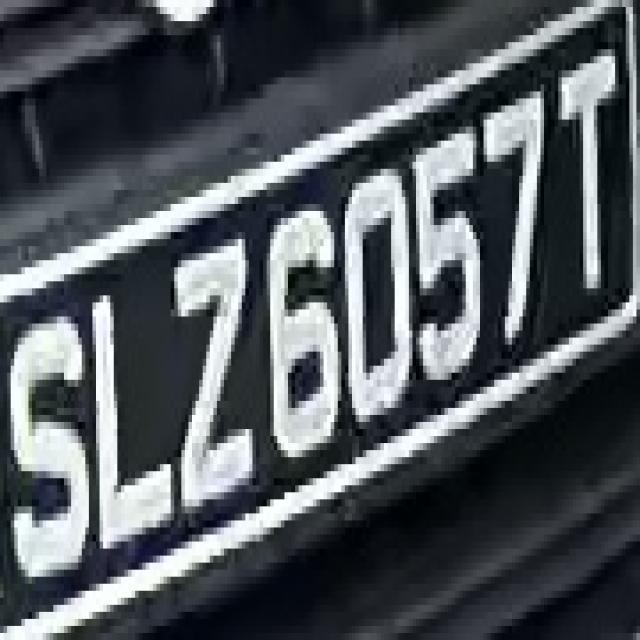0: (327, 155, 420, 471)
5: (412, 112, 498, 387)
6: (267, 169, 345, 478)
7: (469, 63, 551, 373)
L: (82, 253, 185, 556)
S: (3, 281, 89, 584)
T: (544, 42, 629, 296)
Z: (160, 218, 274, 549)
